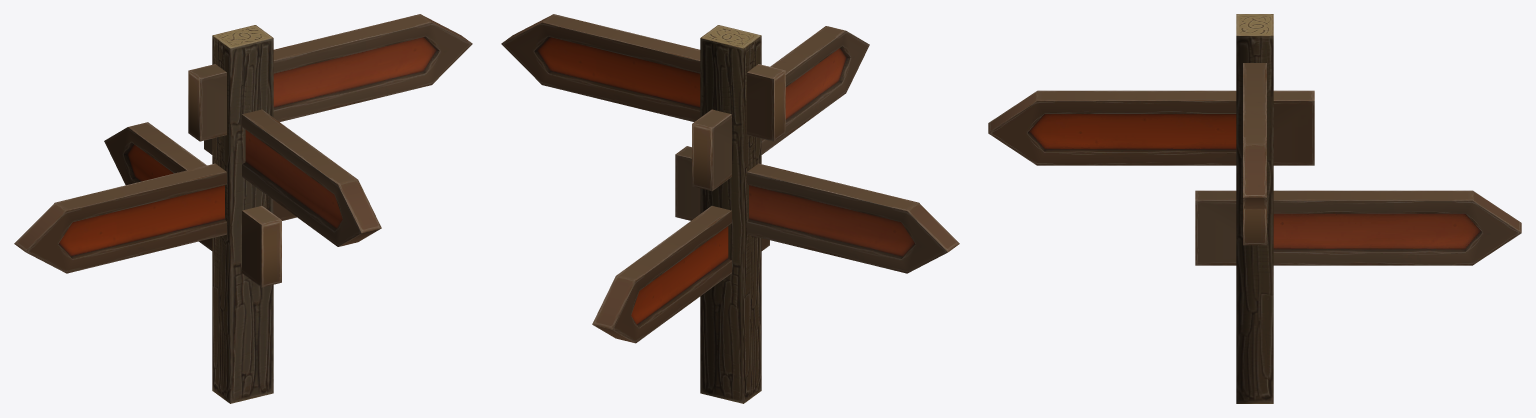
File: SM_SignBoard_01_C.glb
The picture shows the model from 3 angles, left to right: view 1: azimuth 30°, elevation 25°; view 2: azimuth 150°, elevation 25°; view 3: azimuth 270°, elevation 25°; orthographic projection. The views are drawn at different scales.
Parts seen in each view (by area): view 1: SM_SignBoard_01_C; view 2: SM_SignBoard_01_C; view 3: SM_SignBoard_01_C.
Part boxes in pixels (<box>): SM_SignBoard_01_C: <box>14,14,472,403</box>; SM_SignBoard_01_C: <box>501,14,959,403</box>; SM_SignBoard_01_C: <box>988,14,1521,403</box>.
Bounding box in the file's own units: 1.97 × 1.5 × 1.97.
Materials: 1 (1 with a texture image).
